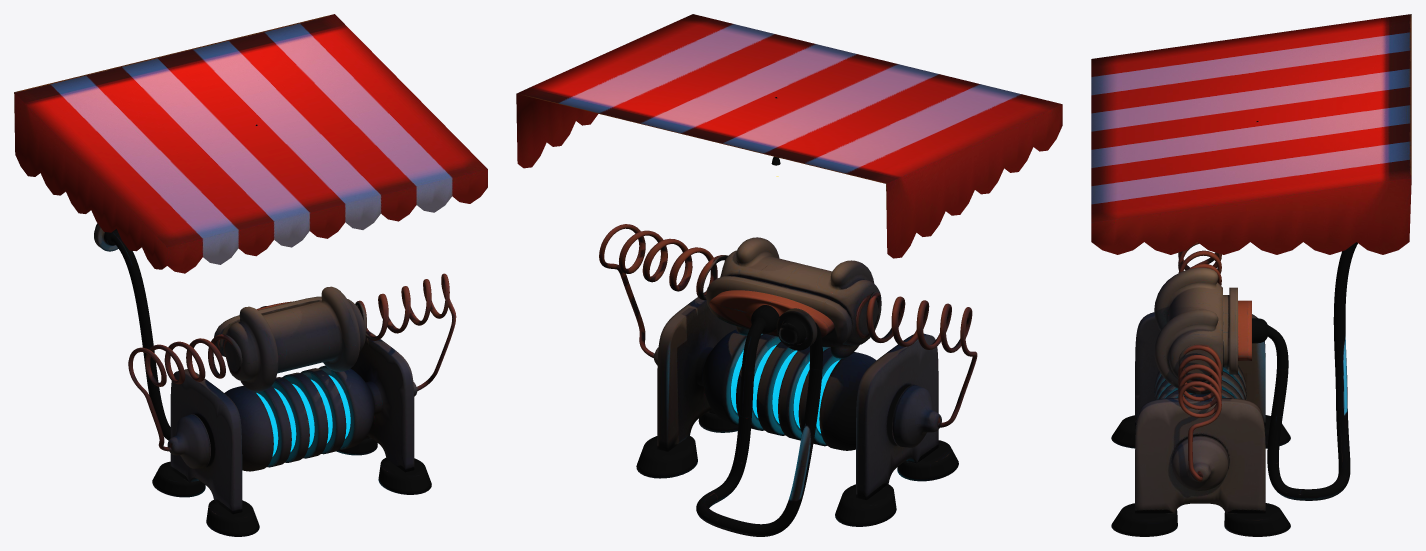
Rendered from generator.glb.
3 renders of one model, left to right at view 1: azimuth 30°, elevation 25°; view 2: azimuth 150°, elevation 25°; view 3: azimuth 270°, elevation 25°, orthographic. The views are drawn at different scales.
Visible parts, largest first — view 1: Cube016, Cube016_1; view 2: Cube016, Cube016_1; view 3: Cube016.
Part boxes in pixels (box(x1,y1,x2,y2)): Cube016: box(14, 14, 487, 536); Cube016_1: box(256, 375, 350, 456); Cube016: box(516, 14, 1062, 536); Cube016_1: box(731, 345, 839, 433); Cube016: box(1091, 14, 1411, 536).
Bounding box in the file's own units: 1.84 × 1.88 × 1.43.
4 materials, 1 textured.
